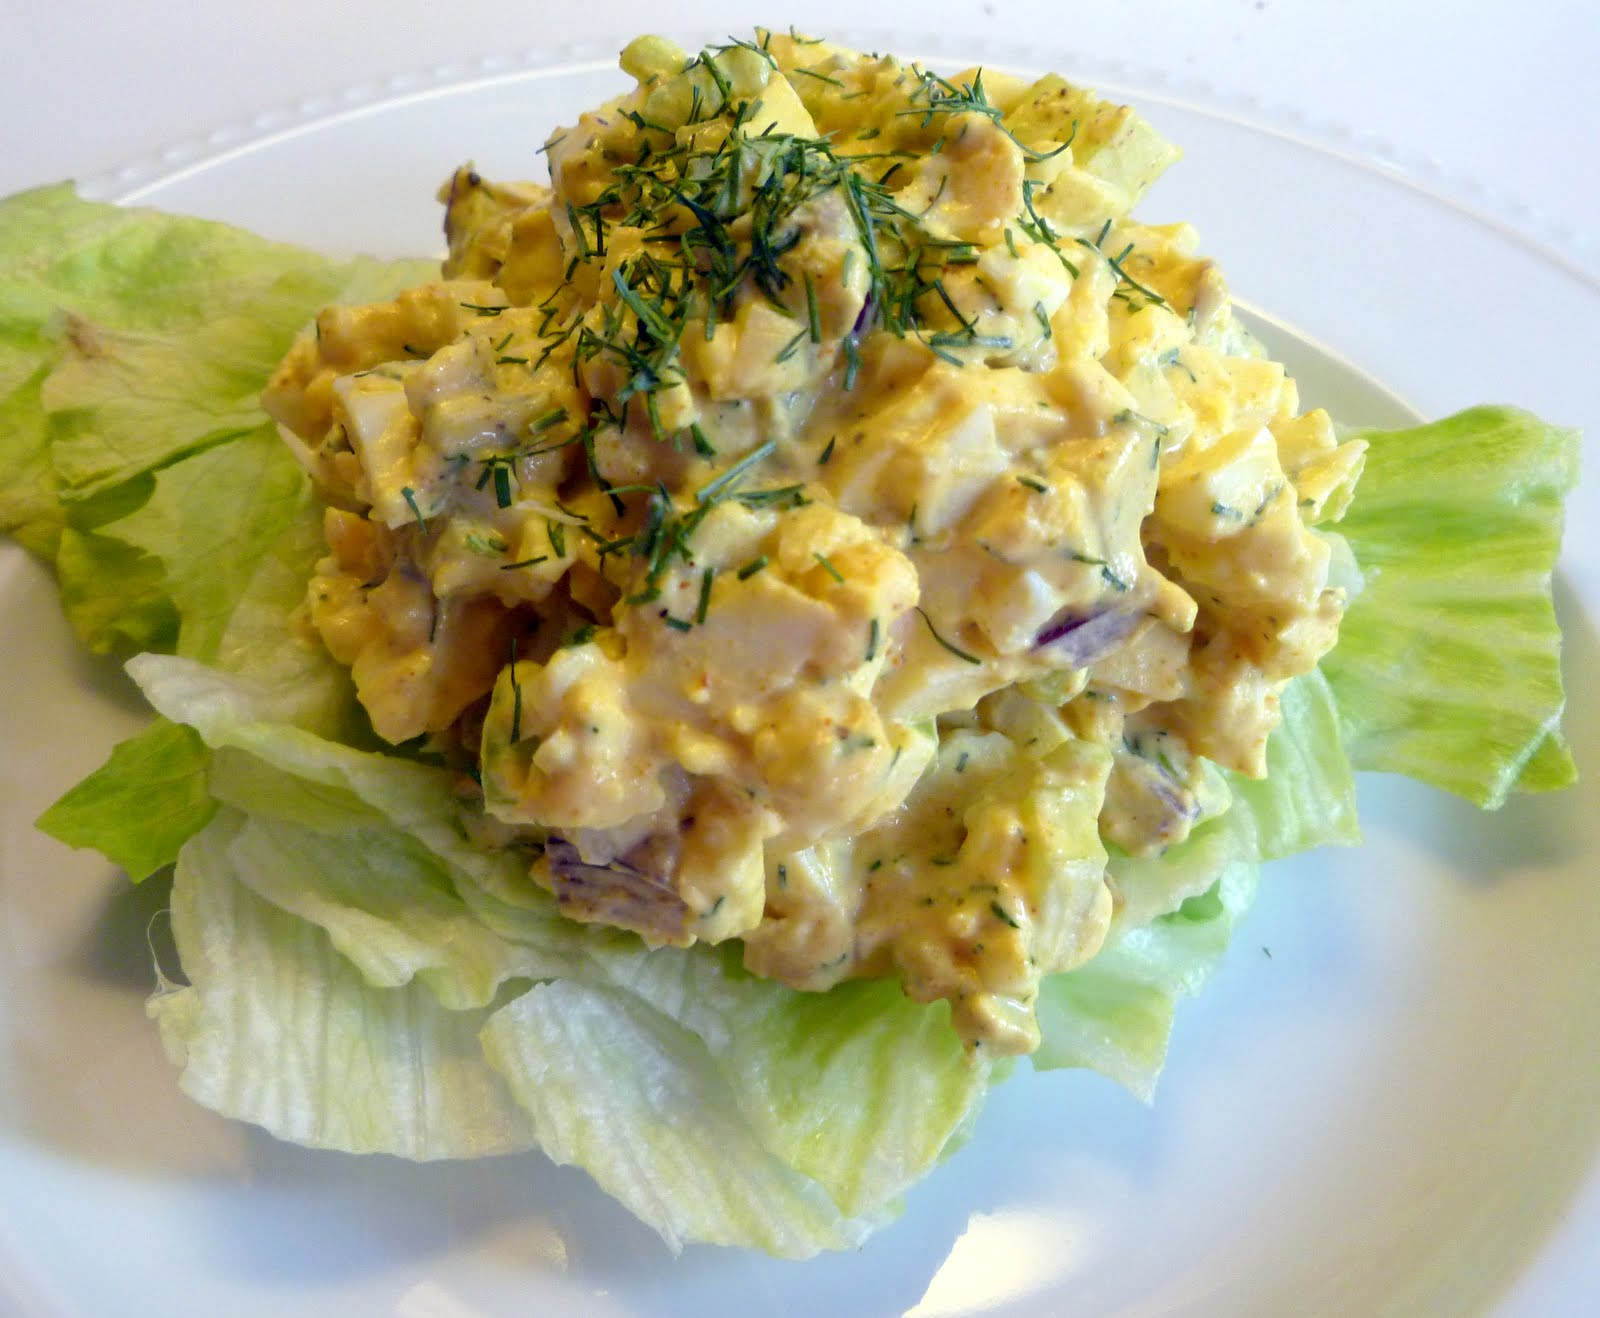chopped lettuce: (52, 323, 396, 1115)
